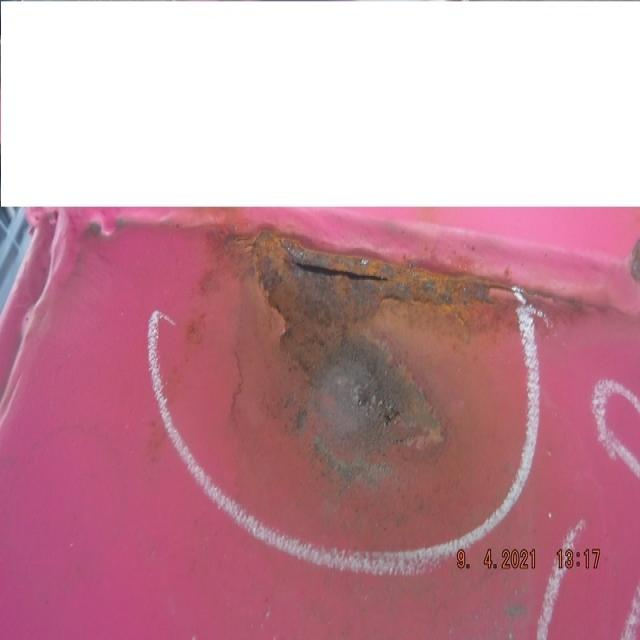rust: (236, 234, 491, 384)
